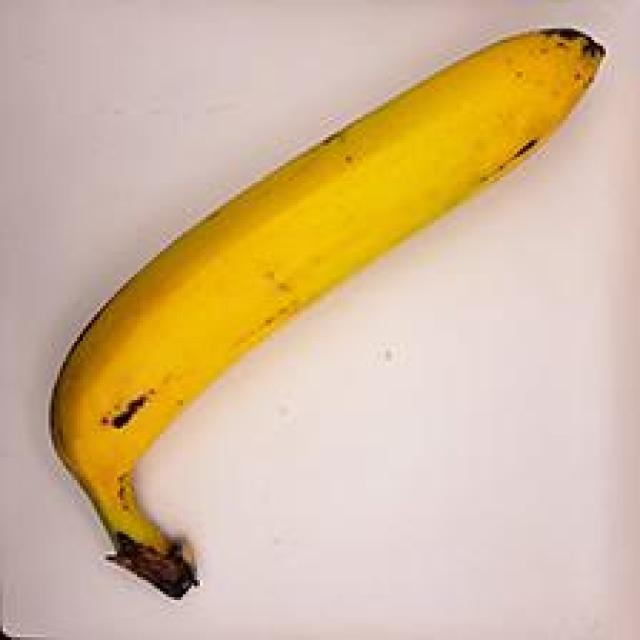Ripe: (0, 0, 611, 599)
